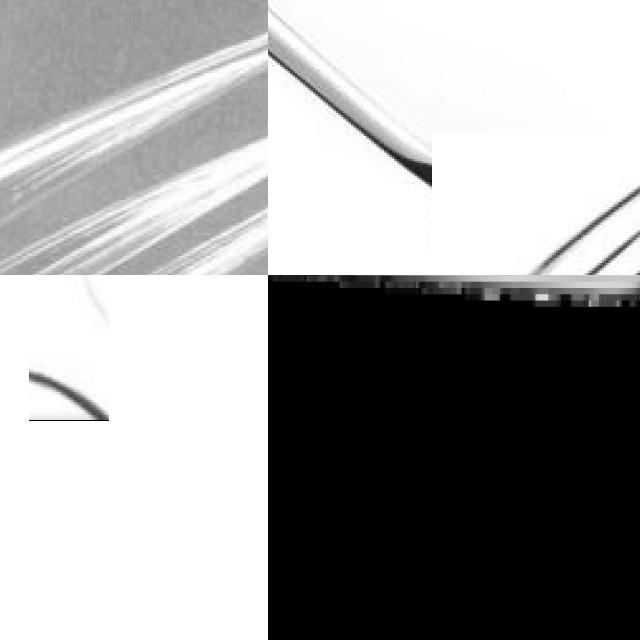forks: (0, 0, 268, 275), (423, 141, 640, 275)
spoons: (0, 275, 202, 328)
